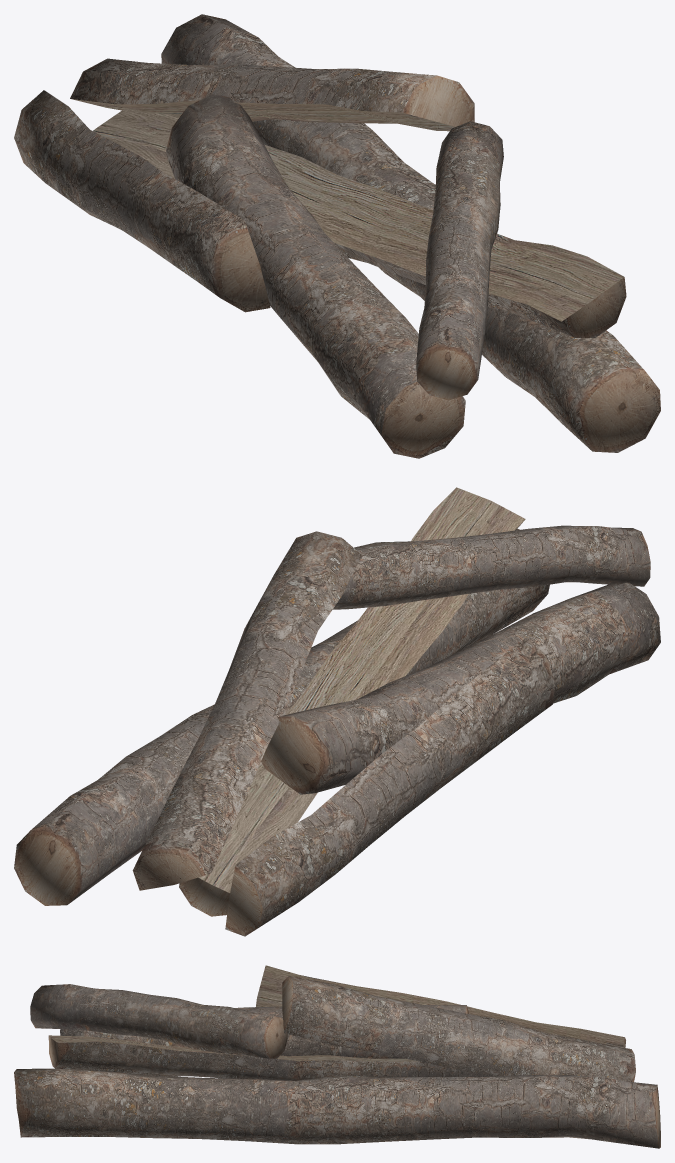
File: SM_FirewoodBundleA.FBX
3 renders of one model, top to bottom at view 1: azimuth 30°, elevation 25°; view 2: azimuth 150°, elevation 25°; view 3: azimuth 270°, elevation 25°, orthographic. The views are drawn at different scales.
Visible parts, largest first — view 1: SM_FirewoodBundleA; view 2: SM_FirewoodBundleA; view 3: SM_FirewoodBundleA.
Boxes of the visible parts, x1,y1,x2,y2 form: SM_FirewoodBundleA: (14, 14, 660, 458); SM_FirewoodBundleA: (14, 487, 660, 936); SM_FirewoodBundleA: (14, 965, 660, 1148).
Bounding box in the file's own units: 23.43 × 16.91 × 61.
